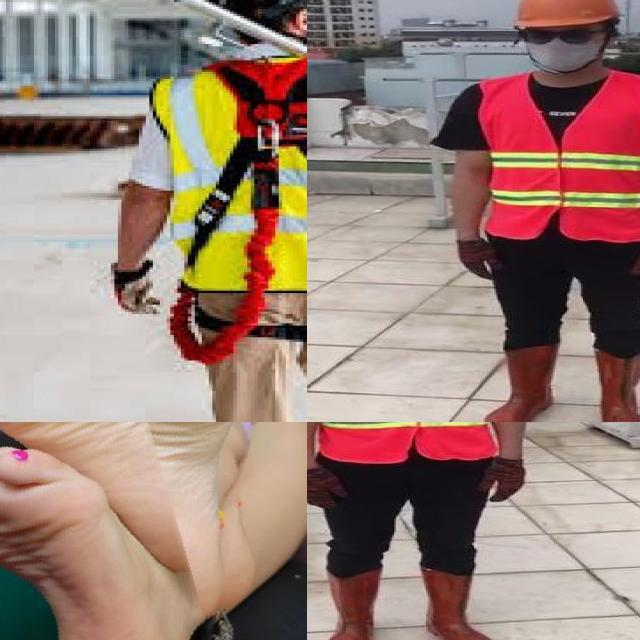Barefoots: (62, 422, 254, 610), (0, 422, 139, 640)
Harness: (186, 59, 307, 268)
boots: (483, 346, 563, 422), (420, 568, 493, 640), (323, 573, 380, 640), (593, 347, 640, 422)
face_mask: (521, 25, 604, 69)
glasses: (513, 22, 607, 48)
hand_glove: (483, 459, 529, 502), (457, 238, 503, 279), (307, 465, 348, 510)
head_helmet: (511, 0, 616, 30)
person: (438, 0, 640, 422), (307, 422, 557, 640)
vest: (479, 73, 640, 244), (308, 422, 493, 460)
